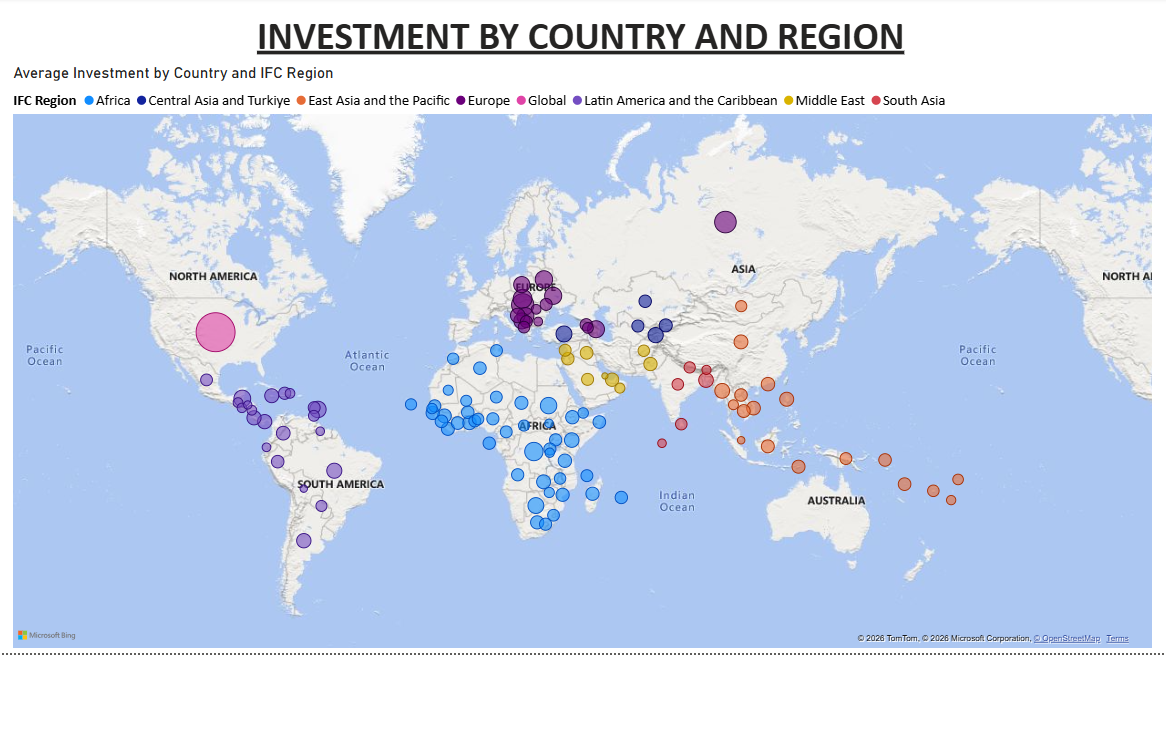

What the dashboard file says about the page in this screenshot:
{"tool":"powerbi","page":{"name":"Page 6","canvas":[1280,720],"ordinal":5},"visuals":[{"type":"map","fields":{"Category":["Cleaned dataset.Country"],"Size":["Cleaned dataset.Average Investment"],"Series":["Cleaned dataset.IFC Region"]},"box":[9.6,72.7,1259.7,647.7],"z":0},{"type":"textbox","box":[98.8,11,1077.2,61.7],"z":1000}]}

Visuals, with their boxes on the page's 1280x720 design canvas (x1, y1, x2, y2). These are canvas units, not pixel positions in the 1166x736 screenshot, which may show the page scaled, cropped or inside an application window:
map - Cleaned dataset.Country x Cleaned dataset.Average Investment: <box>10,73,1269,720</box>
textbox: <box>99,11,1176,73</box>
